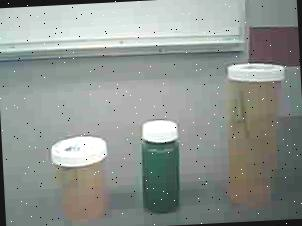Bottle A: (210, 54, 298, 215)
Bottle B: (47, 130, 120, 226)
Bottle C: (134, 116, 191, 220)
